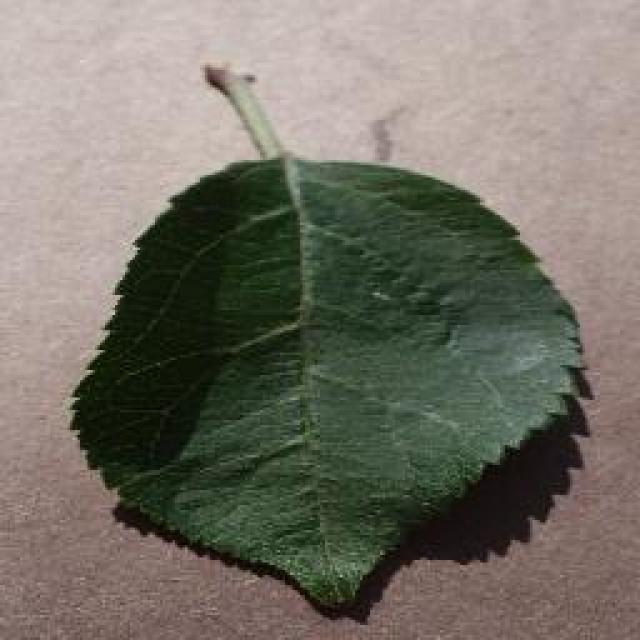apple healthy: (65, 57, 593, 615)
